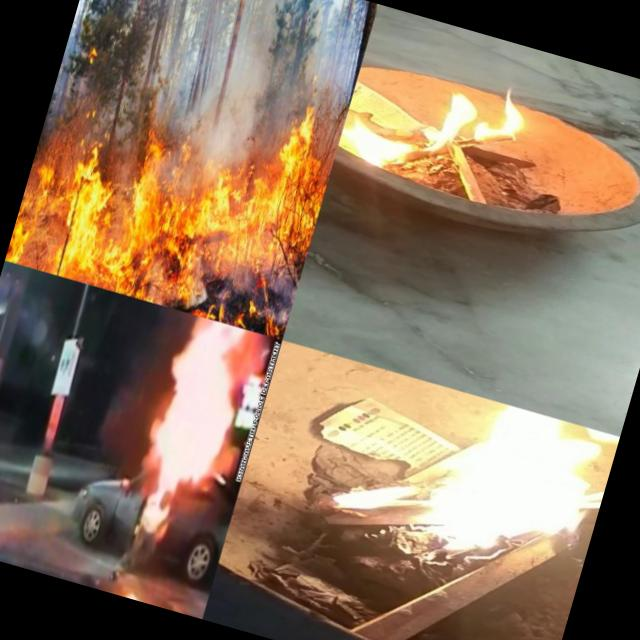fire: (5, 32, 348, 340), (279, 354, 619, 613), (332, 56, 552, 221), (117, 311, 259, 548)
